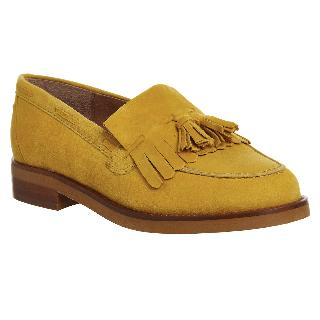loafers: (7, 70, 313, 238)
